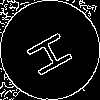H: (25, 25, 83, 79)
